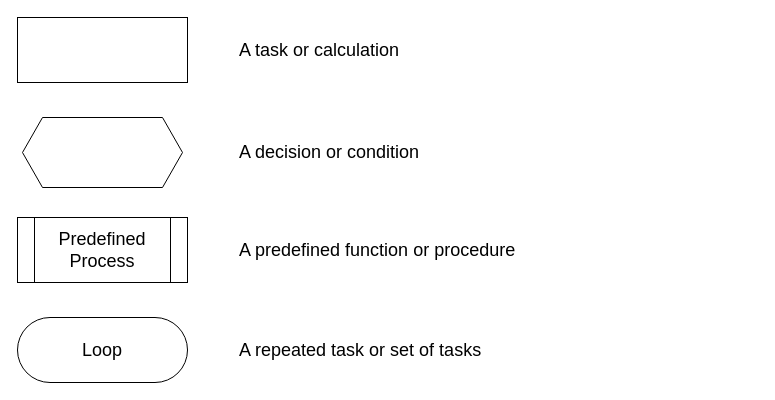
This 775x400 diagram has some shape labels left out. The centre of each missing label's shape, as x and y in pixels:
Process: point (102, 49)
Selection: point (102, 152)
